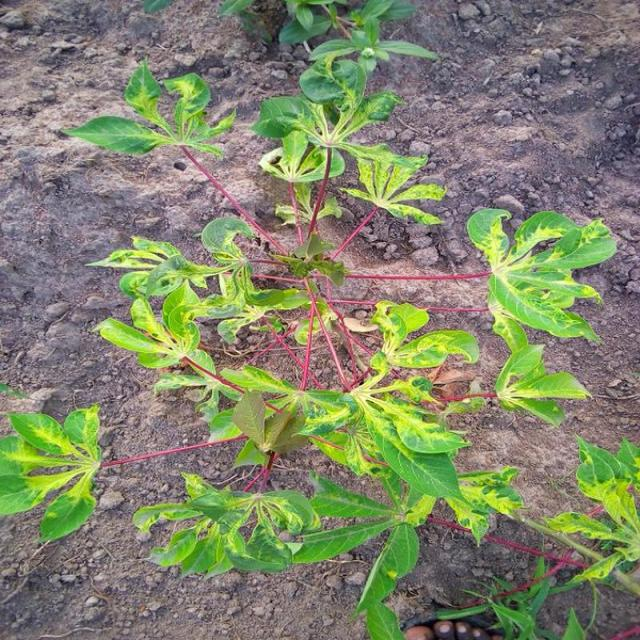cassava leaf: (2, 402, 103, 544)
